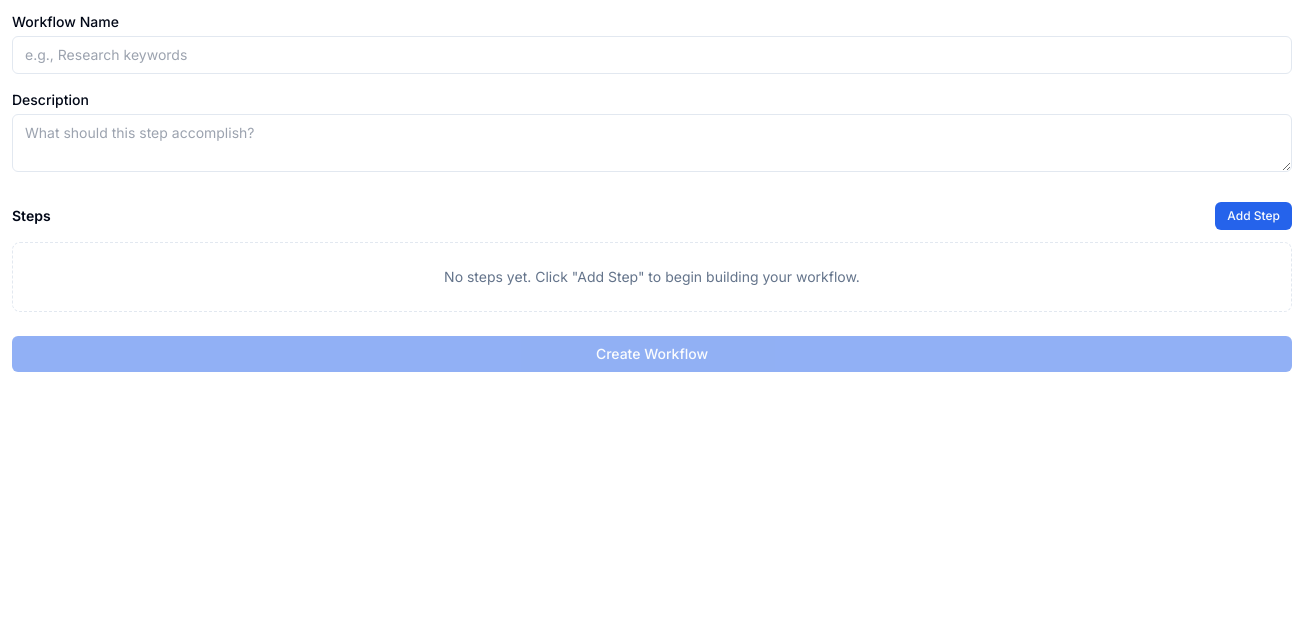
Test case: WorkflowBuilder › has aria-label attributes present on all step-level inputs after adding a step
What coordinates should you click on to do the following:
click the button "Add Step"
I would click on:
 (1254, 216)
Its box is x1=1215 y1=202 x2=1292 y2=230.
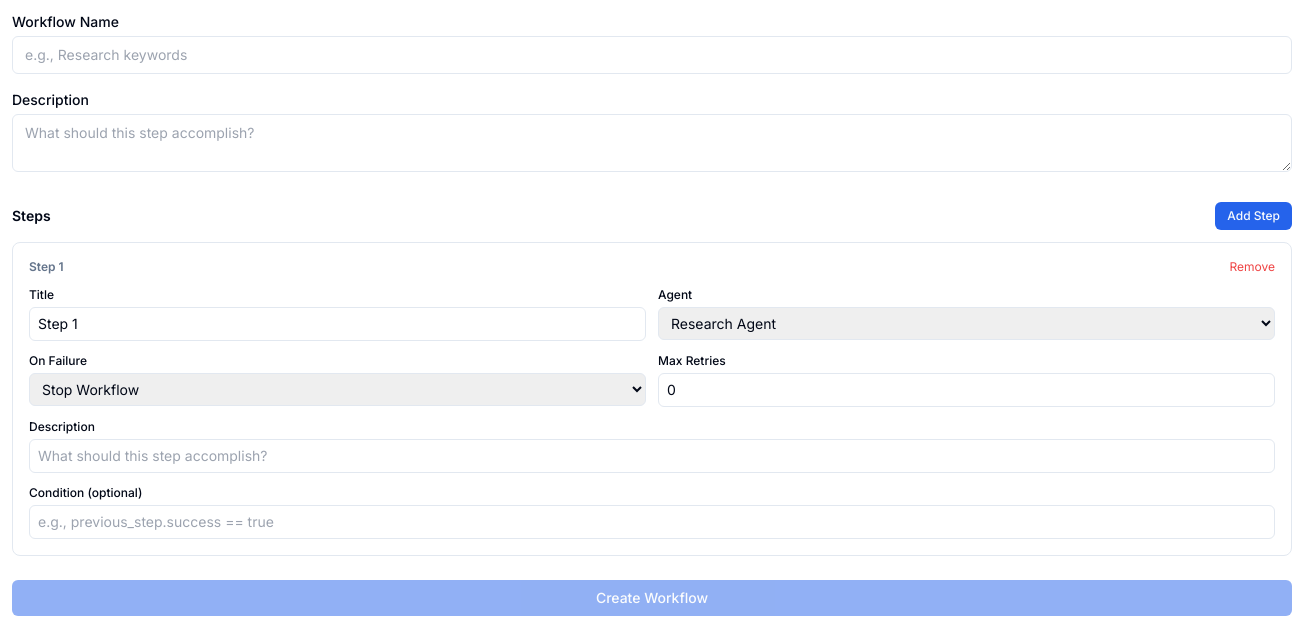
Expected: the field named "Step 1 title" is shown, x1=29 y1=307 x2=646 y2=341
Expected: the dropdown named "Step 1 agent" is shown, x1=658 y1=307 x2=1275 y2=340
Expected: the dropdown named "Step 1 on failure action" is shown, x1=29 y1=373 x2=646 y2=406
